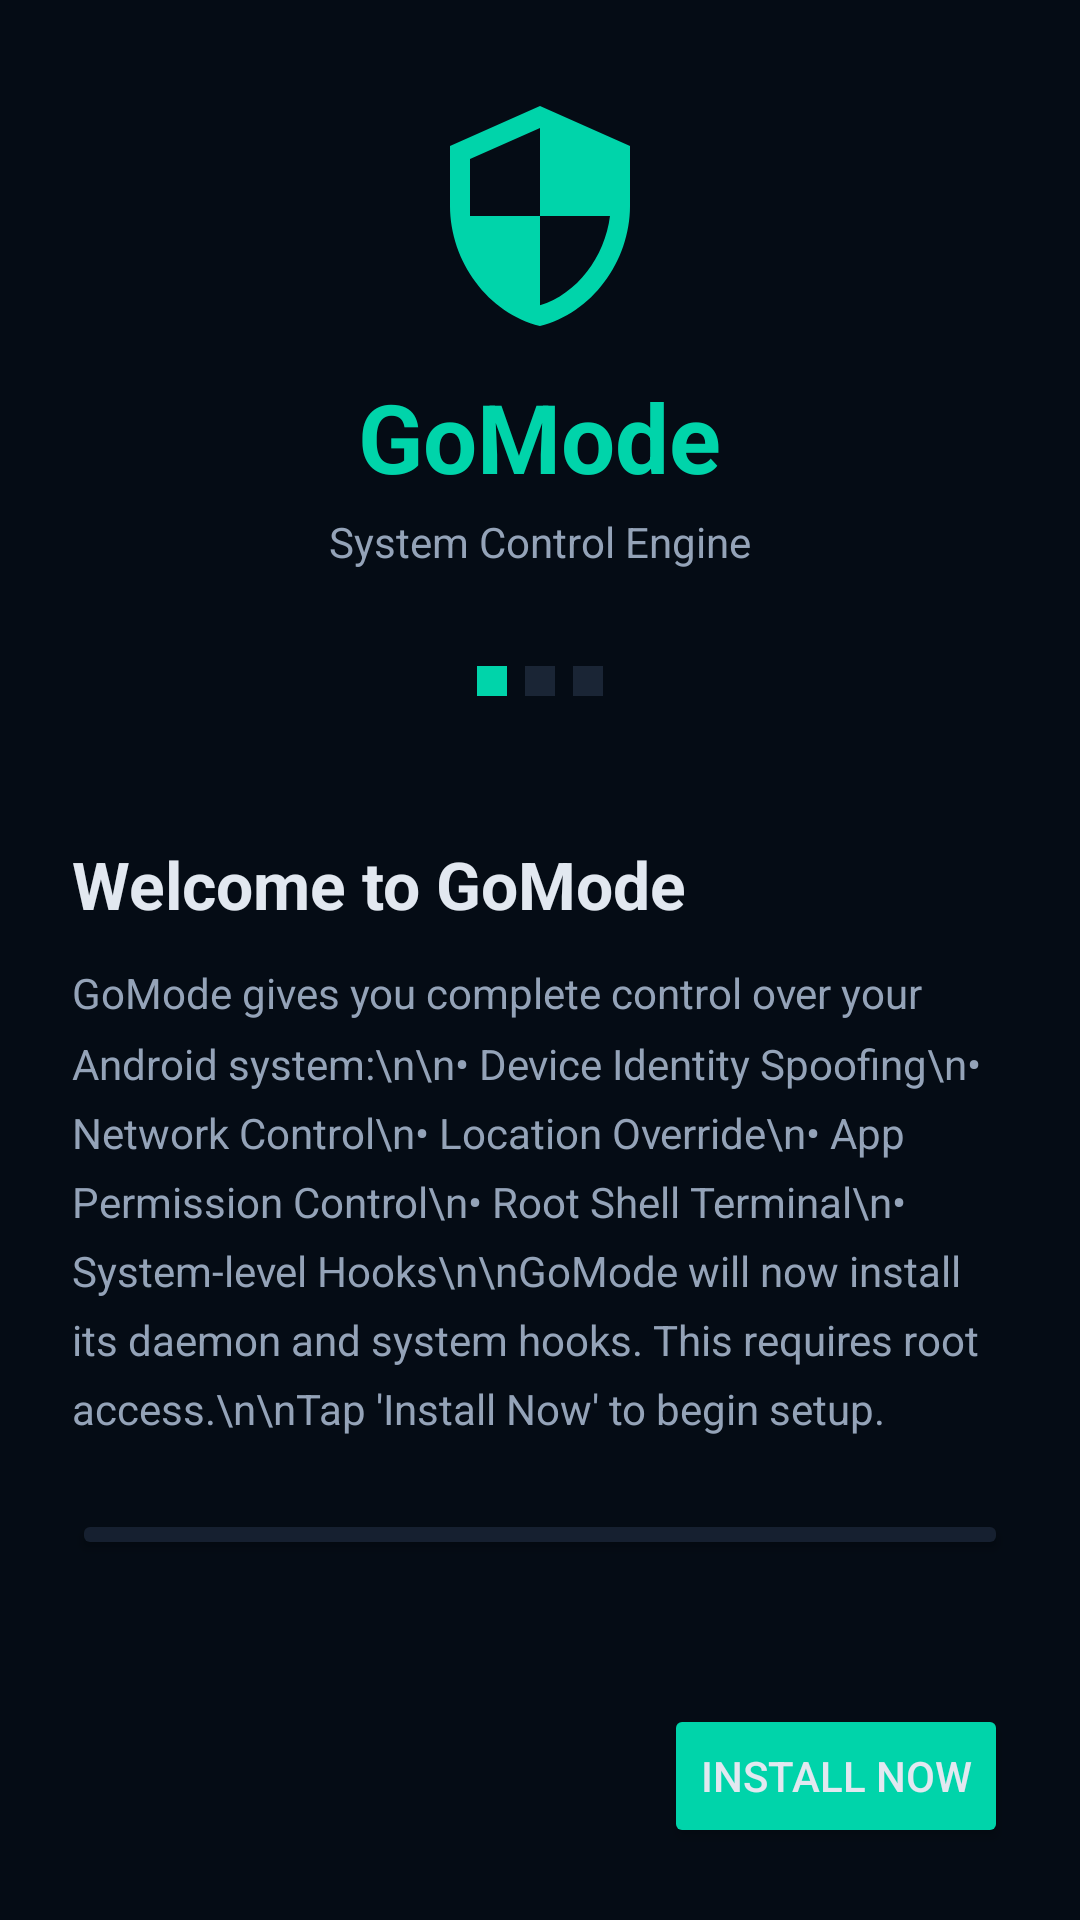

Screen size 1080 × 1920. Icon name, then its box in pixels as (x1, y1, x2, y2):
shield: (450, 106, 630, 326)
